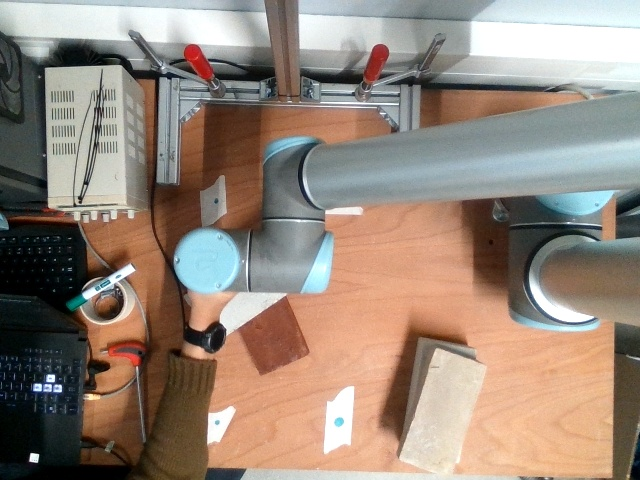brick: (402, 352, 485, 474)
